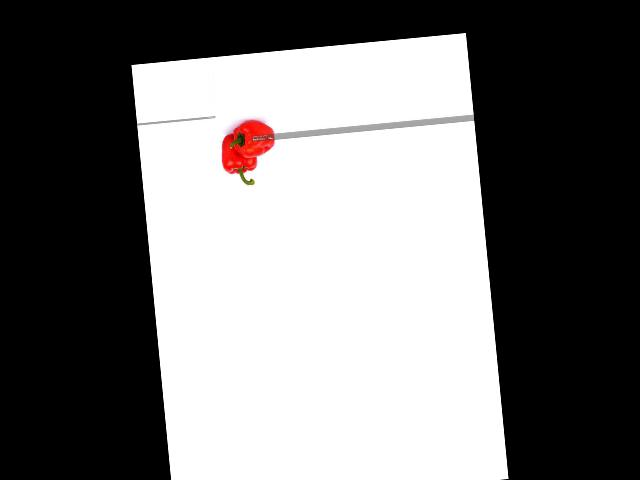bell_pepper: (228, 118, 281, 162)
